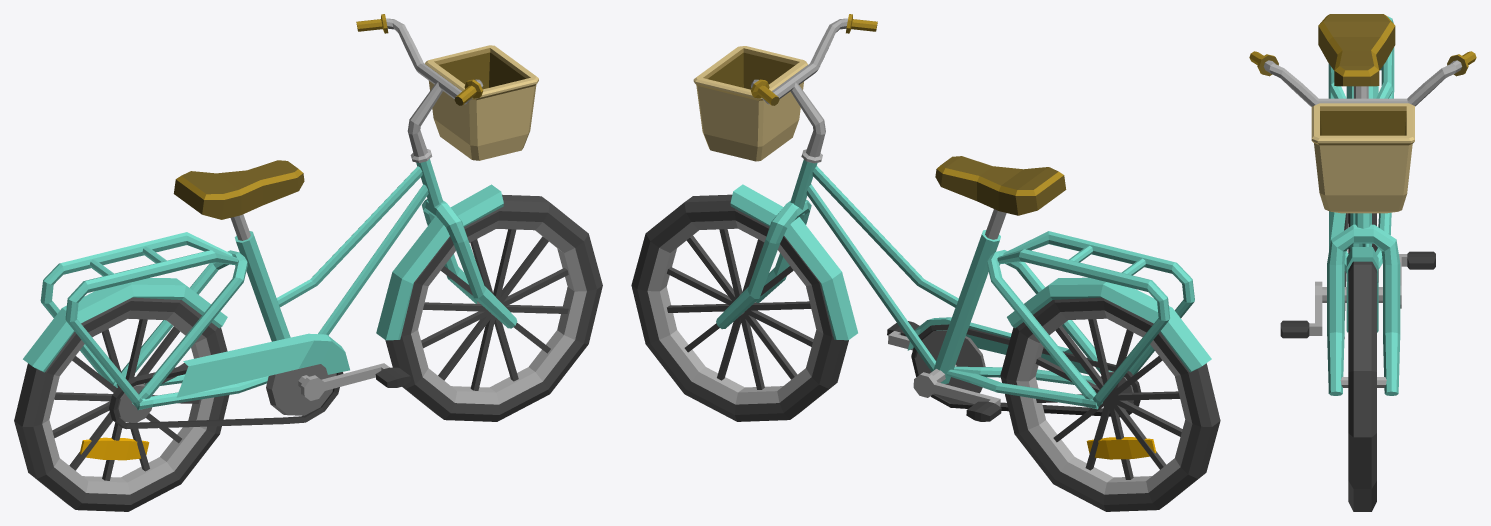
The model's file is Bicycle.fbx.
The picture shows the model from 3 angles, left to right: view 1: azimuth 30°, elevation 25°; view 2: azimuth 150°, elevation 25°; view 3: azimuth 270°, elevation 25°; orthographic projection. The views are drawn at different scales.
Parts seen in each view (by area): view 1: Circle; view 2: Circle; view 3: Circle.
Part boxes in pixels (<box>): Circle: <box>14,14,602,511</box>; Circle: <box>631,14,1220,511</box>; Circle: <box>1249,14,1476,511</box>.
Size of the model in its own units: 5.78 by 3.69 by 1.84.
